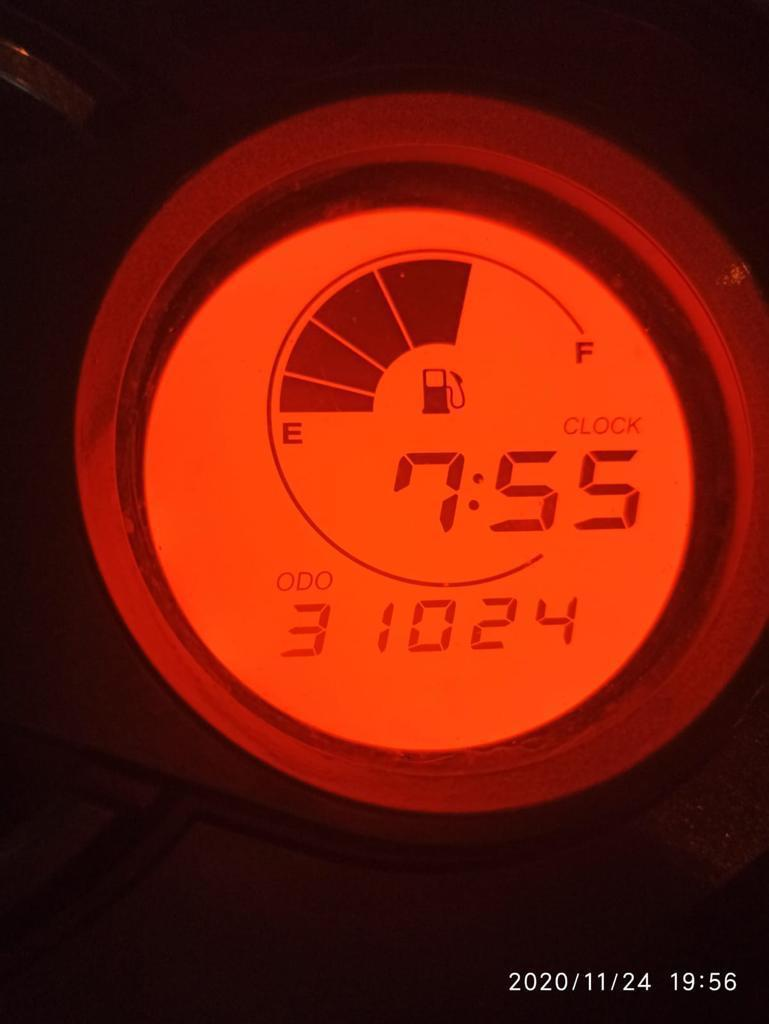0: (406, 598, 456, 653)
1: (376, 602, 394, 654)
2: (469, 596, 517, 650)
3: (278, 602, 331, 657)
4: (533, 595, 578, 645)
5: (491, 445, 560, 533), (575, 447, 646, 532)
7: (390, 449, 467, 534)
X: (465, 470, 484, 513), (280, 420, 305, 446), (573, 339, 596, 366), (275, 571, 294, 592), (295, 571, 314, 592), (313, 570, 331, 591), (610, 414, 627, 434), (562, 415, 578, 436), (592, 415, 608, 435), (578, 414, 591, 436), (627, 416, 643, 433)
odometer: (129, 192, 712, 762)
